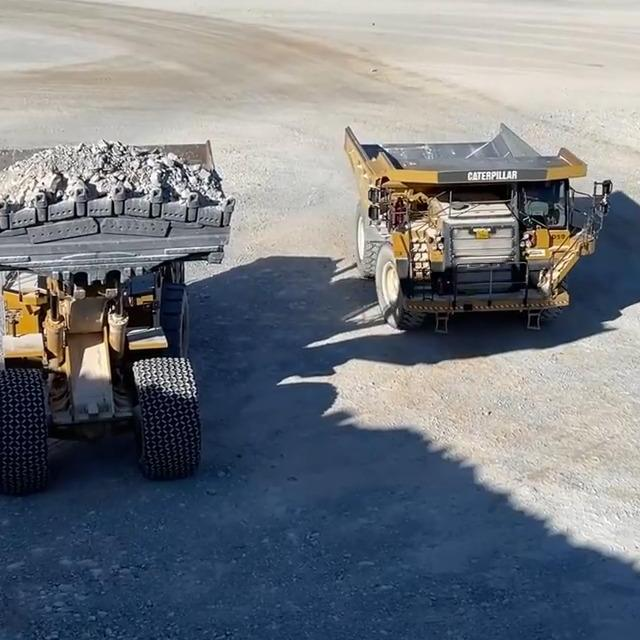dump truck: (331, 114, 621, 346)
wheel loader: (0, 132, 246, 503)
